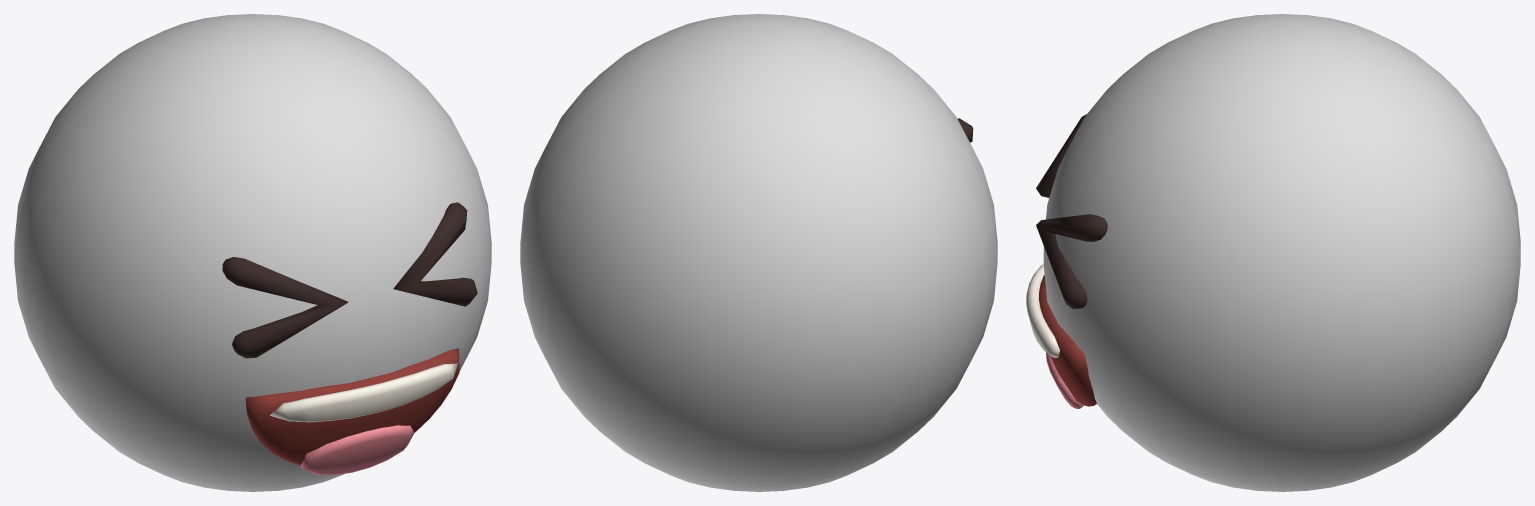
Rendered from face_joy.glb.
The picture shows the model from 3 angles, left to right: view 1: azimuth 30°, elevation 25°; view 2: azimuth 150°, elevation 25°; view 3: azimuth 270°, elevation 25°; orthographic projection.
Parts seen in each view (by area): view 1: face_joy; view 2: face_joy; view 3: face_joy.
Boxes of the visible parts, x1=… form: face_joy: x1=14, y1=14, x2=491, y2=491; face_joy: x1=520, y1=14, x2=997, y2=491; face_joy: x1=1026, y1=14, x2=1520, y2=491.
Size of the model in its own units: 1 by 1 by 1.03.
